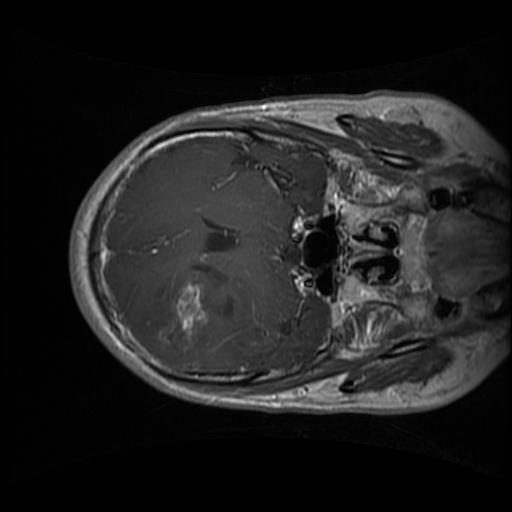glioma: (152, 260, 240, 355)
